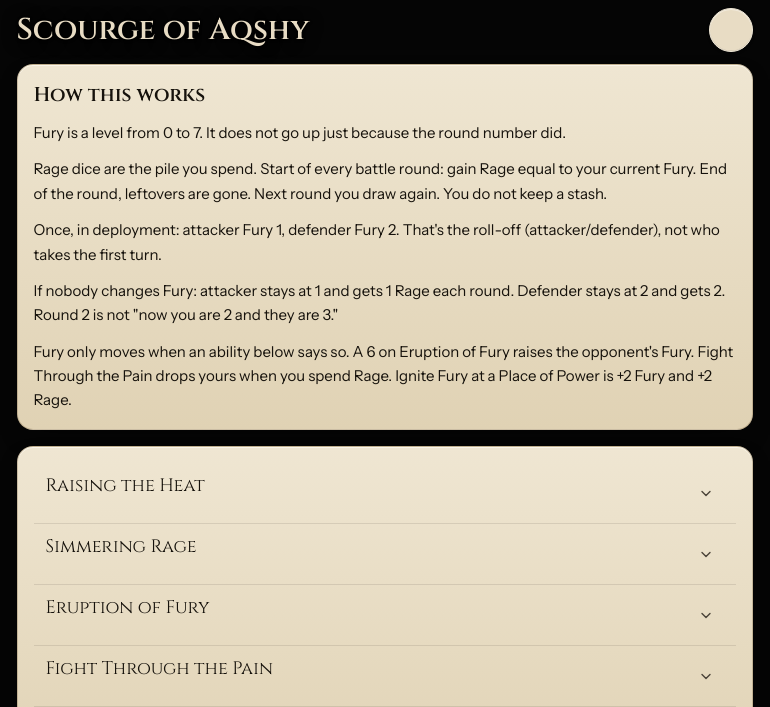
Test: CoreRulesScreen › opens every mention and highlights the phrase you typed
Click the button named "Search rules": point(730, 30) [708, 8, 752, 52]
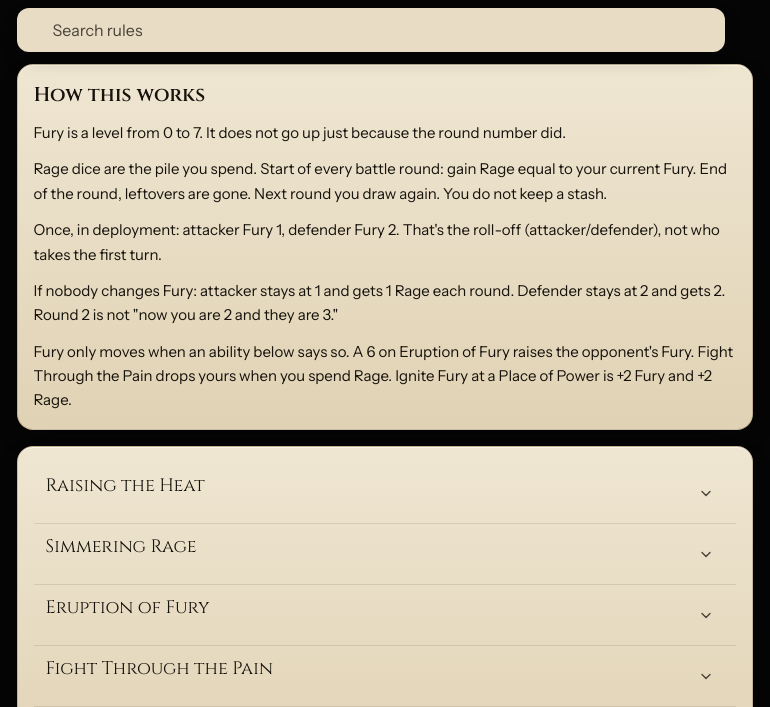
In the search field labelled "Search rules": point(370, 30) [16, 8, 724, 52], type "Deployment Phase"
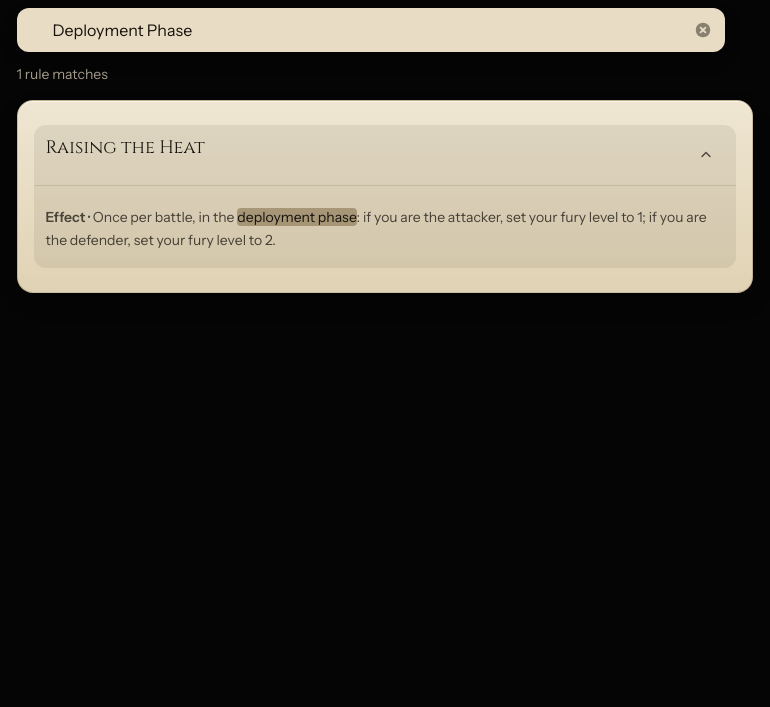
Result: the button "Raising the Heat" is expanded at [34, 125, 736, 185]
Result: the text "Eruption of Fury" is gone
Result: the text "deployment phase" is shown at [237, 208, 357, 226]
